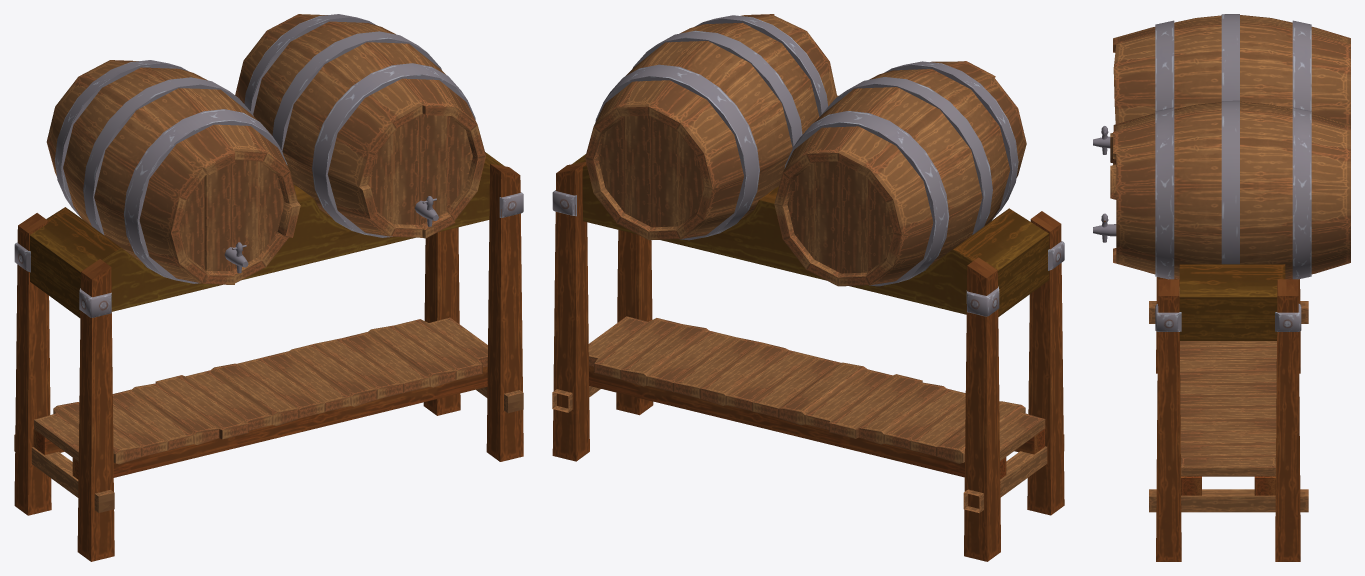
File: prop_barrel_001.glb
3 renders of one model, left to right at view 1: azimuth 30°, elevation 25°; view 2: azimuth 150°, elevation 25°; view 3: azimuth 270°, elevation 25°, orthographic. The views are drawn at different scales.
Visible parts, largest first — view 1: Barrel_Holder; view 2: Barrel_Holder; view 3: Barrel_Holder.
Part boxes in pixels (x1,y1,x2,y2): Barrel_Holder: (14, 14, 523, 561); Barrel_Holder: (552, 14, 1064, 561); Barrel_Holder: (1093, 14, 1350, 561).
Bounding box in the file's own units: 1.36 × 1.26 × 0.741.
2 materials, 2 textured.
